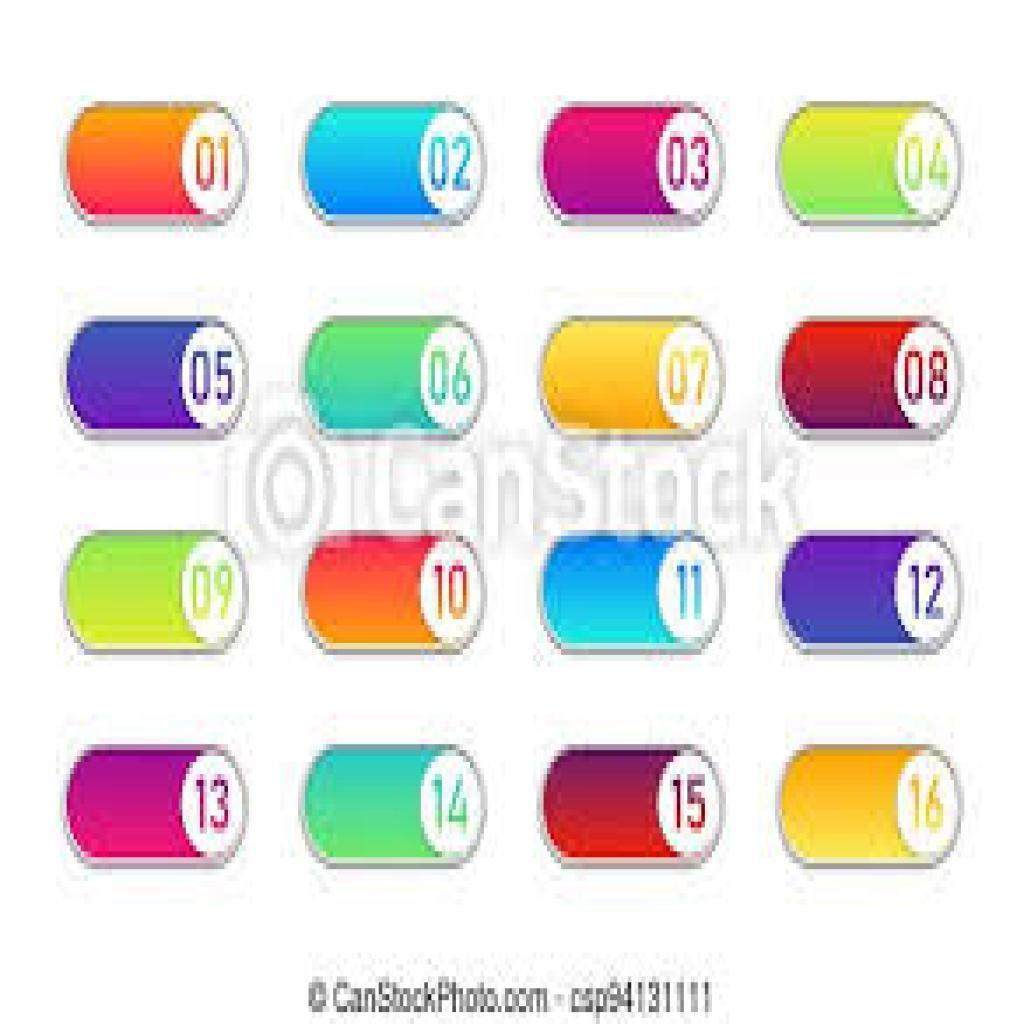switch: (295, 91, 493, 242), (60, 729, 255, 881), (59, 516, 254, 665), (55, 87, 255, 232), (300, 729, 492, 879), (773, 737, 972, 879), (301, 520, 489, 665), (536, 733, 732, 872), (536, 308, 726, 448), (536, 527, 726, 665), (299, 308, 492, 443), (59, 312, 249, 447), (777, 310, 966, 442), (778, 101, 963, 232), (773, 527, 964, 653), (541, 99, 726, 223)
